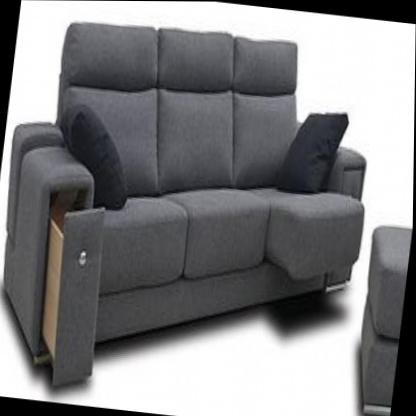Sofa: (0, 8, 398, 416)
